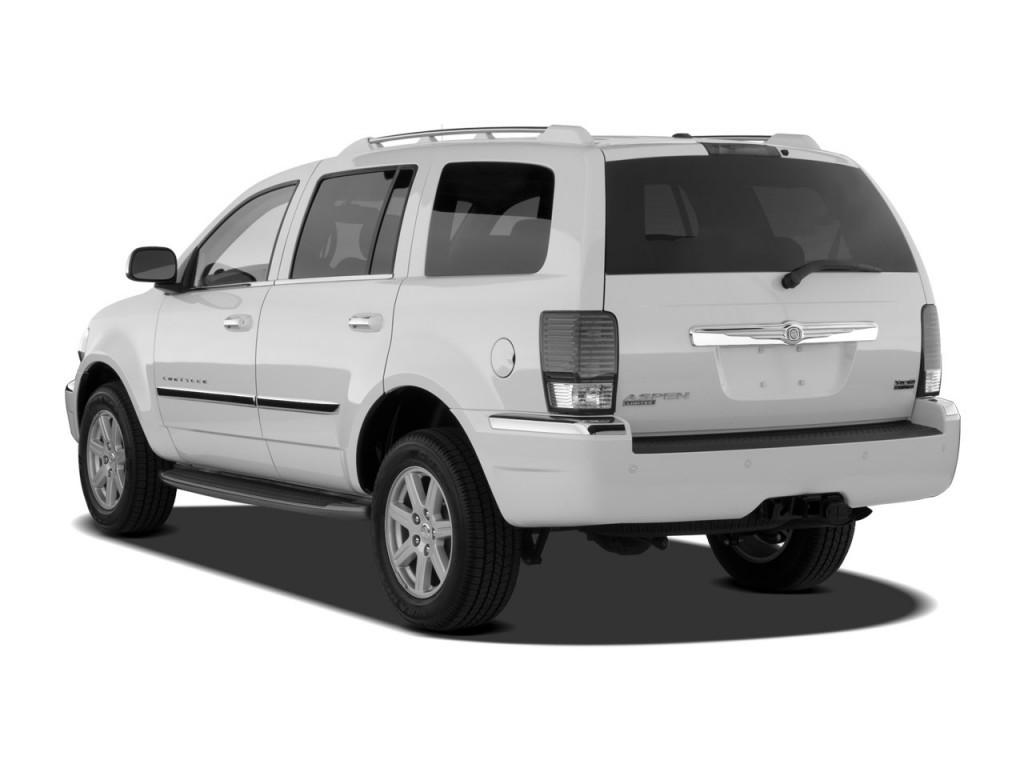car: (61, 120, 967, 646)
